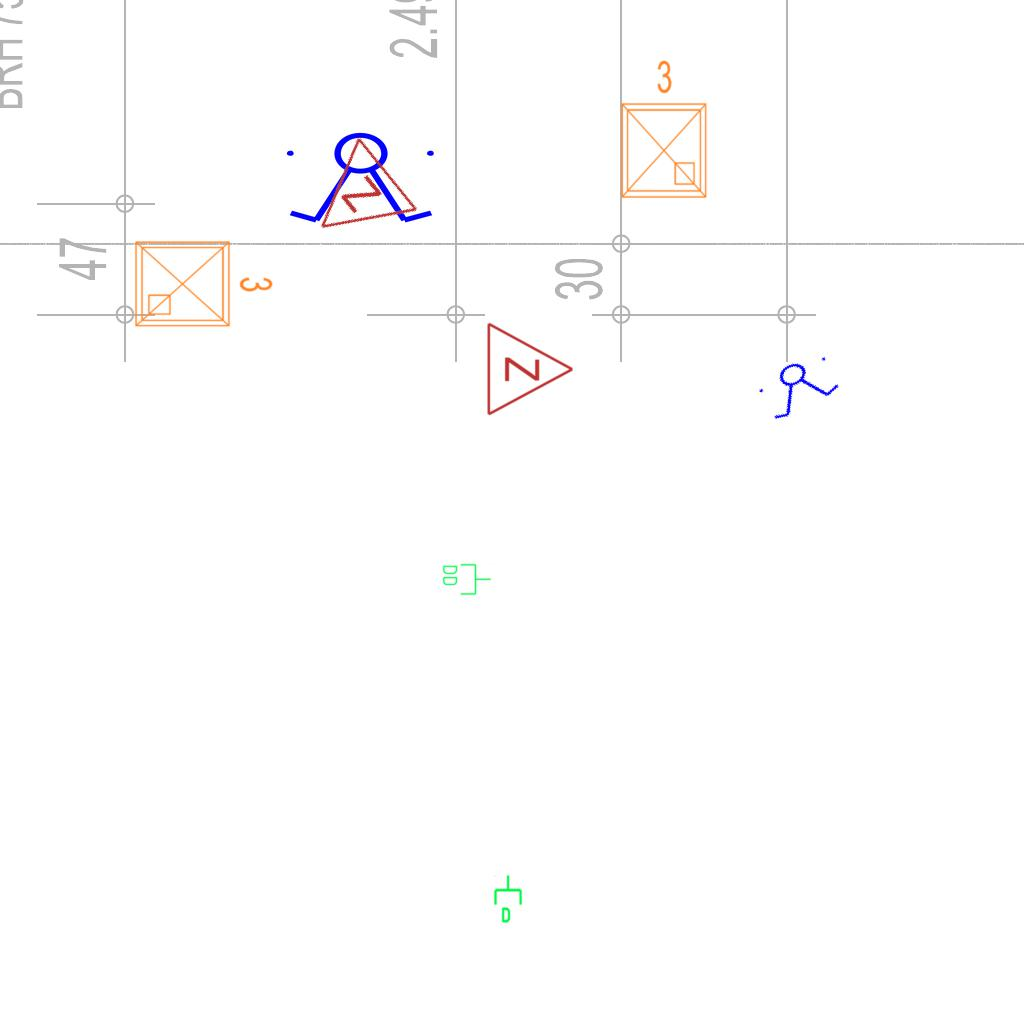Datenanschluss_einfach: (492, 874, 526, 924)
Datenanschluss_zweifach: (441, 562, 492, 596)
Einbaudownlights_LED_Konferenzraeume: (128, 230, 278, 334), (610, 55, 714, 205)
Serienschalter: (278, 131, 446, 227), (750, 345, 848, 427)
Zimmersignalleuchte: (286, 131, 426, 271), (480, 319, 580, 417)
